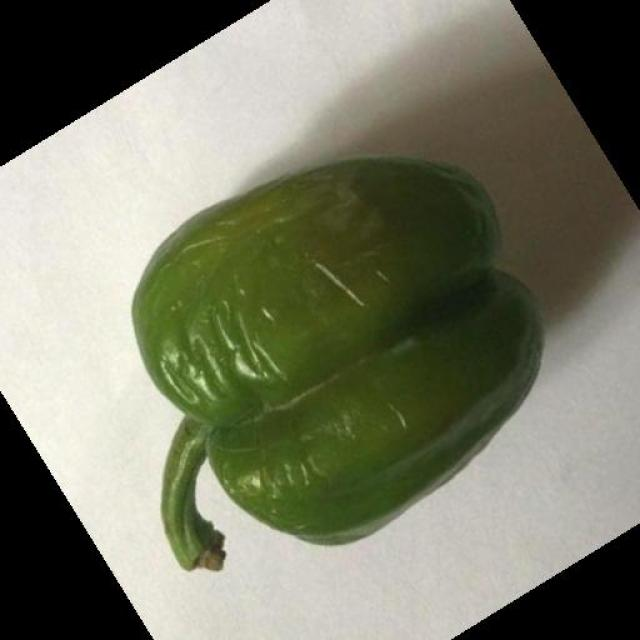Stale_Capsicum: (120, 163, 542, 549)
